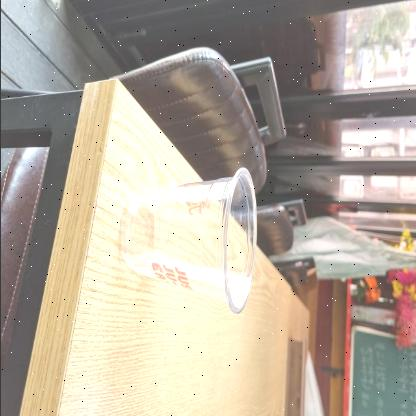Others: (112, 160, 260, 324)
